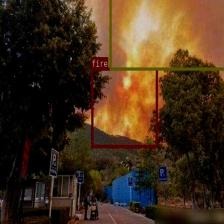fire: (91, 66, 158, 148)
smoke: (109, 0, 224, 69)
